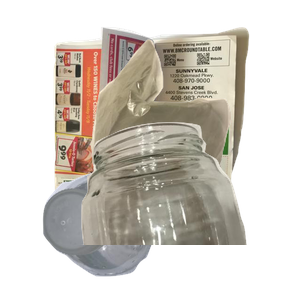glass: (74, 120, 300, 300)
paper: (51, 24, 291, 204)
plastic: (40, 170, 187, 300)
trash: (89, 37, 300, 213)
